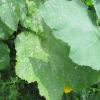Squash Powdery mildew leaf: (37, 0, 100, 71), (16, 1, 52, 38), (0, 0, 26, 32)
